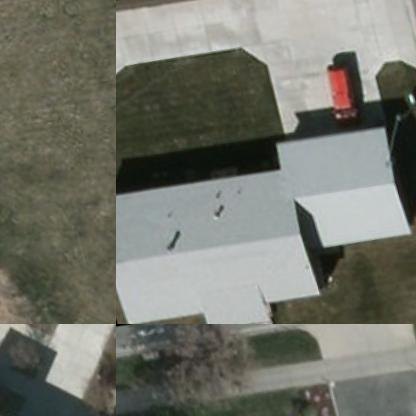car: (314, 56, 362, 130)
